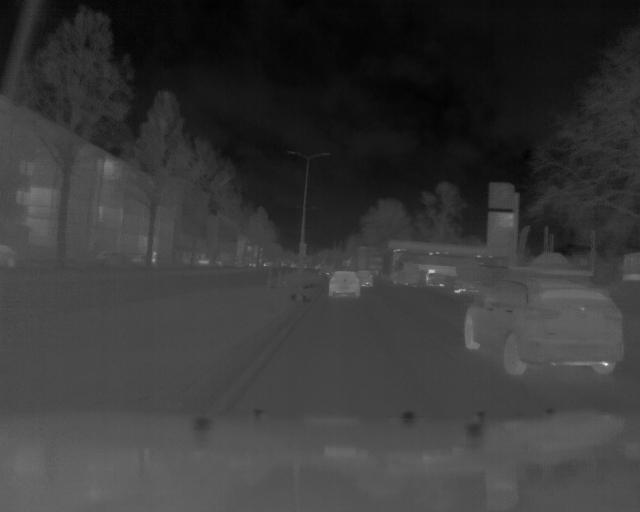car: (464, 276, 620, 371), (392, 259, 451, 290), (328, 269, 361, 297), (362, 244, 386, 269), (361, 270, 378, 288)
